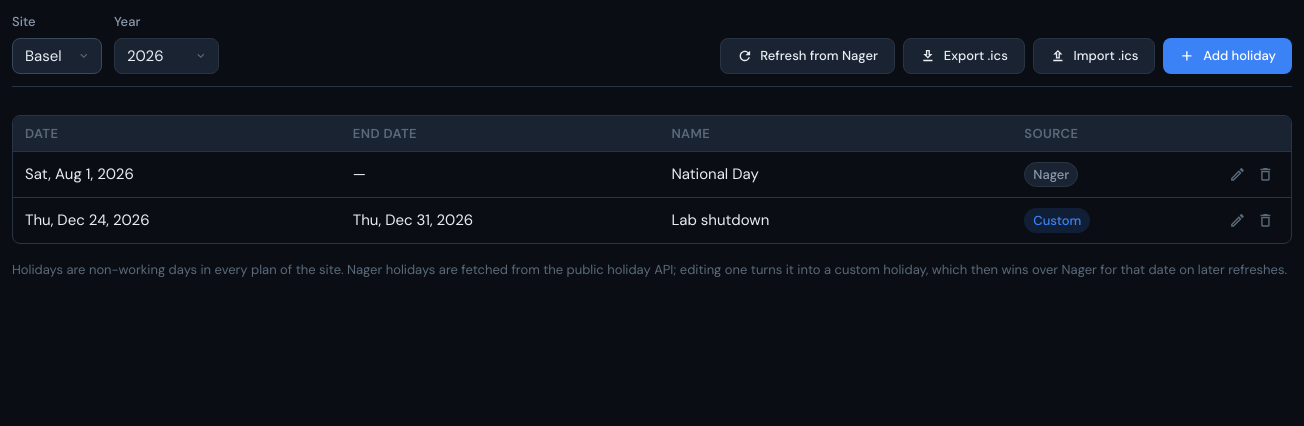
it: BankHolidaysPanel import view › targets the shown site, loads other targets for duplicate checks and goes back
The width and height of the screenshot is (1304, 426).
Expected: the text "National Day" is shown, [659,152,1012,197]
Step 1. Click the button "Import .ics" → (1094, 56), box [1033,38,1155,74]
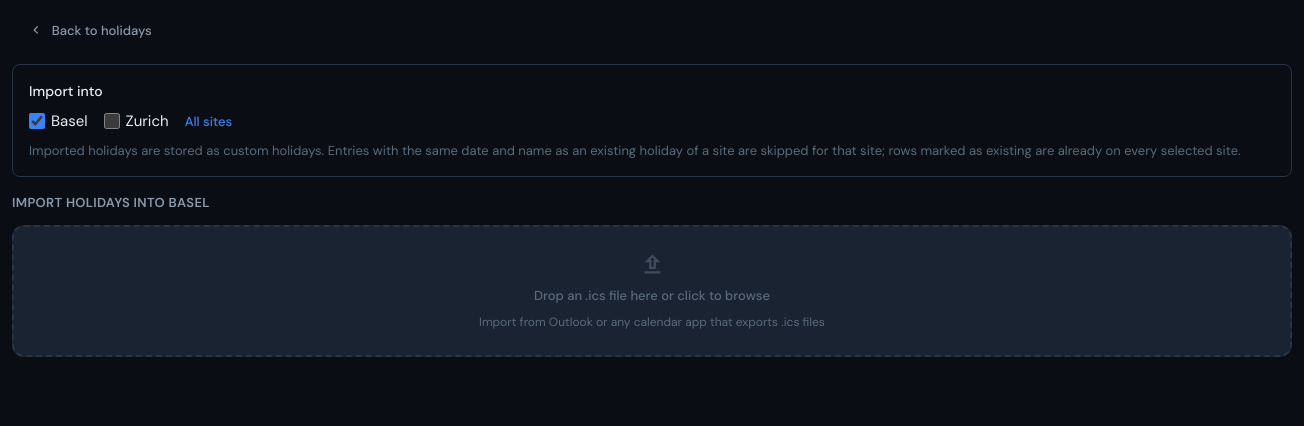
Now the text "Import holidays into Basel" is shown, box [12,194,210,211]
Step 2. Click the checkbox labelled "Zurich" → (112, 121), box [104,113,120,129]
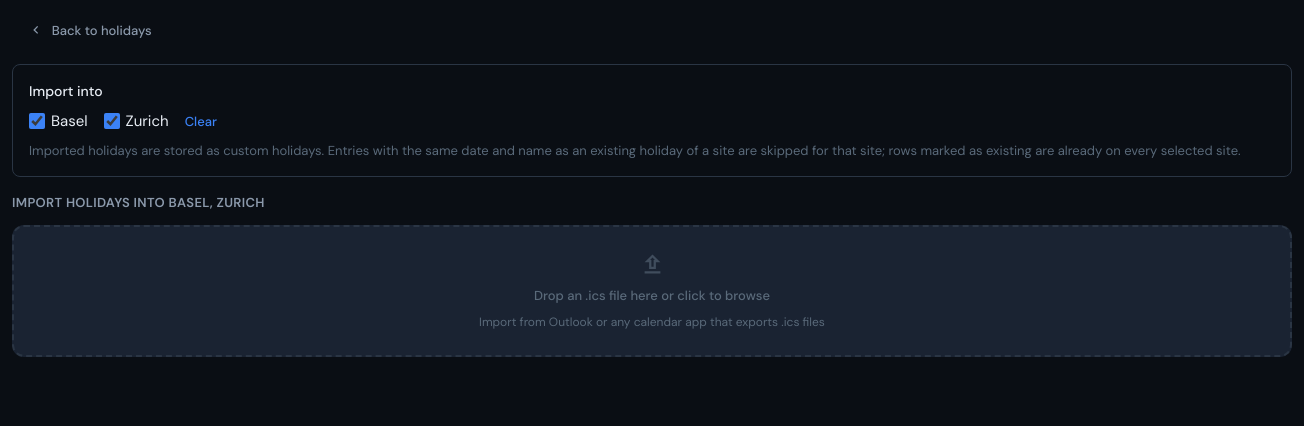
Now the text "Import holidays into Basel, Zurich" is shown, box [12,194,265,211]
Step 3. Click the checkbox labelled "Basel" → (37, 121), box [29,113,45,129]
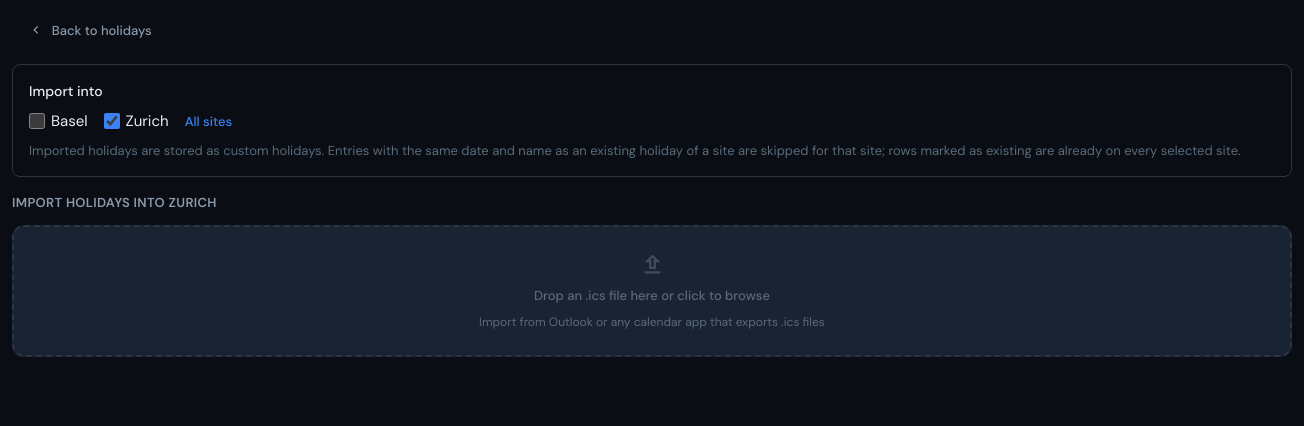
Step 4. Click the checkbox labelled "Zurich" → (112, 121), box [104,113,120,129]
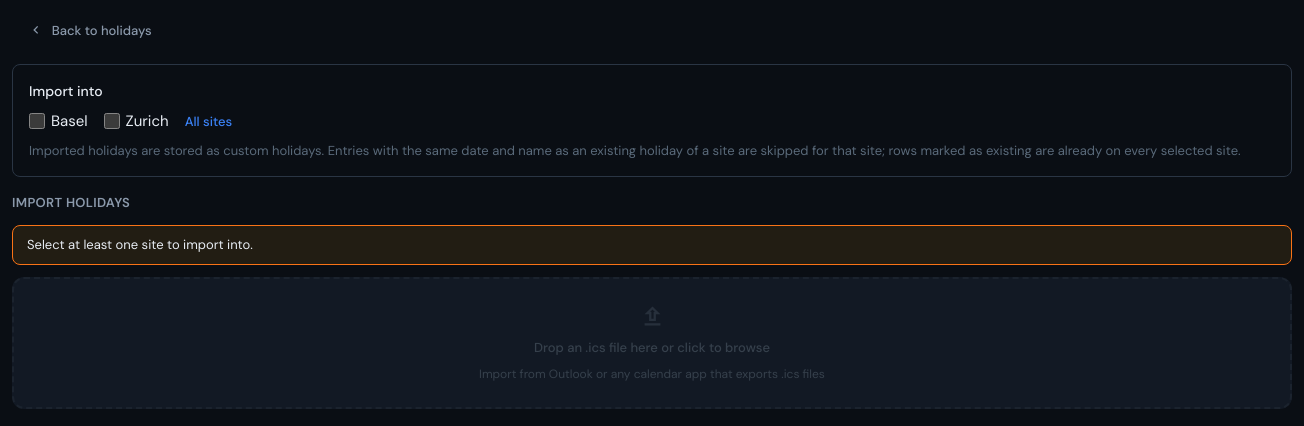
Now the text "Import holidays" is shown, box [12,194,130,211]
Step 5. Click the button "Back to holidays" → (90, 30), box [12,12,168,48]
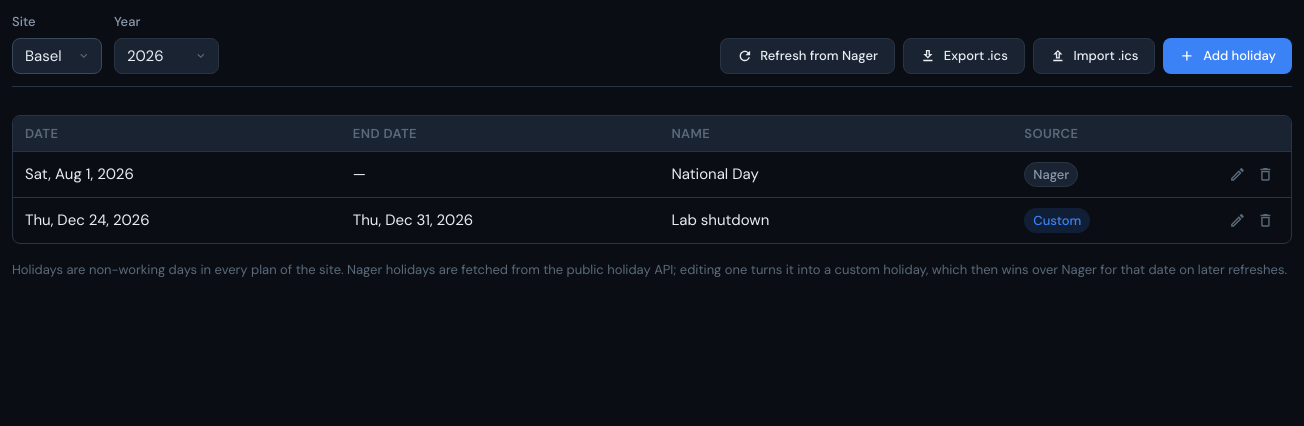
Now the text "National Day" is shown, box [659,152,1012,197]
